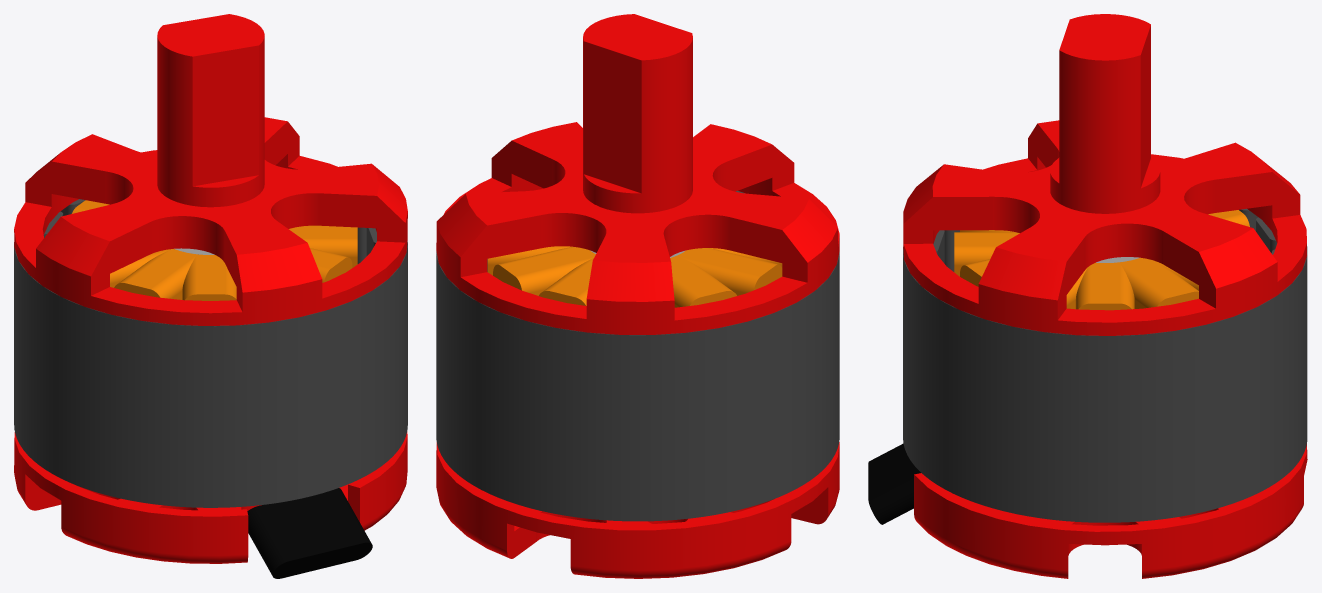
File: WASP_MOTOR.dae
The picture shows the model from 3 angles, left to right: view 1: azimuth 30°, elevation 25°; view 2: azimuth 150°, elevation 25°; view 3: azimuth 270°, elevation 25°; orthographic projection. The views are drawn at different scales.
Visible parts, largest first — view 1: BLDC Magnet Case, BLDC Top, BLDC Bottom, BLDC Wire Connector, BLDC Copper Solenoid; view 2: BLDC Magnet Case, BLDC Top, BLDC Bottom, BLDC Copper Solenoid; view 3: BLDC Magnet Case, BLDC Top, BLDC Bottom, BLDC Copper Solenoid, BLDC Wire Connector.
Part boxes in pixels (x1=…): BLDC Magnet Case: x1=14, y1=199, x2=407, y2=507; BLDC Top: x1=14, y1=14, x2=407, y2=325; BLDC Bottom: x1=14, y1=432, x2=407, y2=563; BLDC Wire Connector: x1=247, y1=488, x2=372, y2=578; BLDC Copper Solenoid: x1=72, y1=200, x2=357, y2=300; BLDC Magnet Case: x1=436, y1=191, x2=839, y2=521; BLDC Top: x1=436, y1=14, x2=839, y2=334; BLDC Bottom: x1=436, y1=442, x2=839, y2=578; BLDC Copper Solenoid: x1=487, y1=246, x2=782, y2=307; BLDC Magnet Case: x1=903, y1=208, x2=1307, y2=522; BLDC Top: x1=903, y1=14, x2=1307, y2=335; BLDC Bottom: x1=914, y1=444, x2=1307, y2=578; BLDC Copper Solenoid: x1=954, y1=210, x2=1249, y2=310; BLDC Wire Connector: x1=868, y1=443, x2=920, y2=524.
Bounding box in the file's own units: 0.0275 × 0.0298 × 0.0354.
